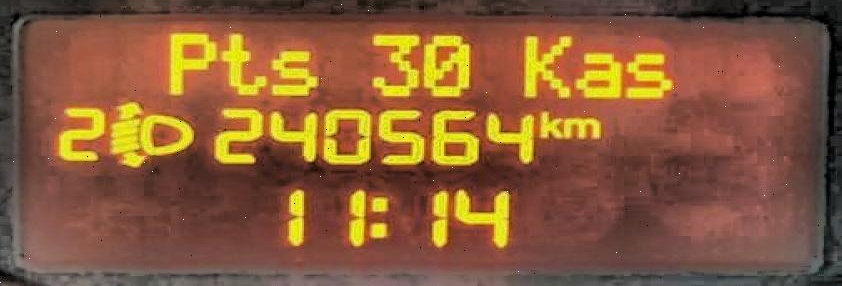0: (422, 29, 473, 97), (318, 105, 372, 166)
1: (275, 182, 309, 251), (340, 183, 365, 252), (422, 186, 447, 253)
2: (52, 101, 107, 170), (208, 99, 262, 168)
3: (369, 28, 419, 97)
4: (452, 186, 510, 247), (265, 106, 317, 162), (484, 107, 534, 163)
5: (375, 104, 424, 163)
6: (430, 108, 477, 165)
X: (165, 26, 217, 95), (522, 30, 572, 100), (215, 29, 265, 98), (265, 46, 320, 96), (624, 45, 674, 98), (575, 47, 620, 98), (368, 190, 392, 240), (562, 115, 600, 141), (539, 108, 560, 139)
